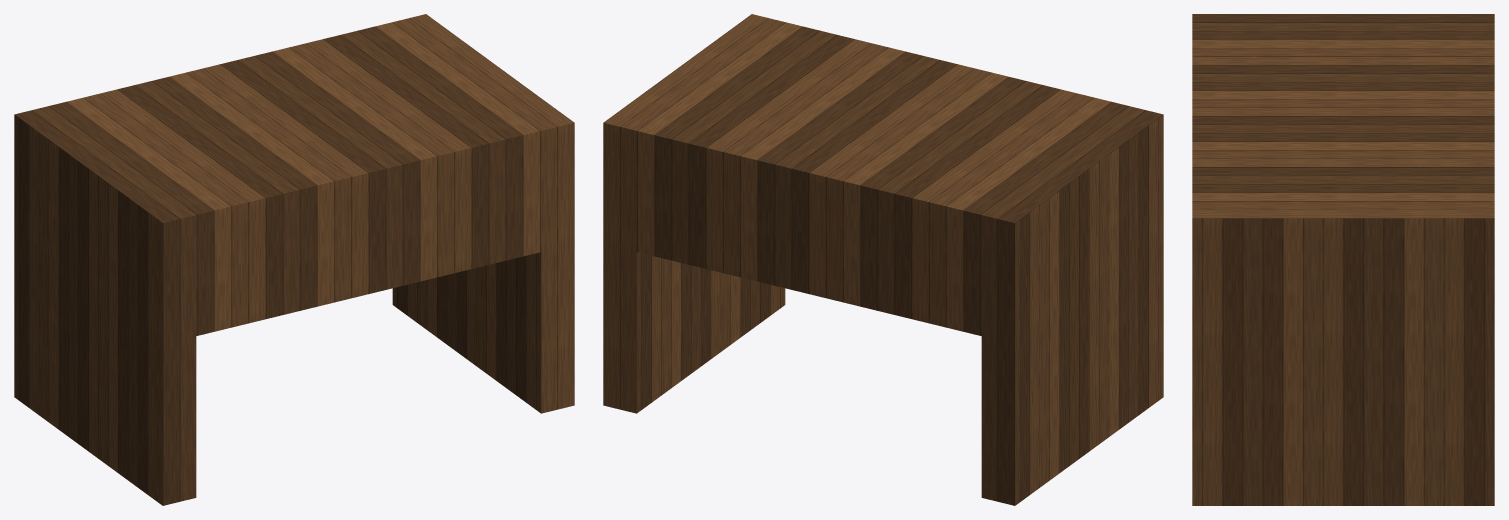
The model's file is duck-beam-frame.glb.
3 views of the same model, side by side, from view 1: azimuth 30°, elevation 25°; view 2: azimuth 150°, elevation 25°; view 3: azimuth 270°, elevation 25° (orthographic).
Parts seen in each view (by area): view 1: duck-beam-frame; view 2: duck-beam-frame; view 3: duck-beam-frame.
Boxes of the visible parts, x1,y1,x2,y2 form: duck-beam-frame: [14, 14, 574, 505]; duck-beam-frame: [603, 14, 1163, 505]; duck-beam-frame: [1192, 14, 1494, 505].
Size of the model in its own units: 3.2 by 2.1 by 2.
1 material, 1 textured.
